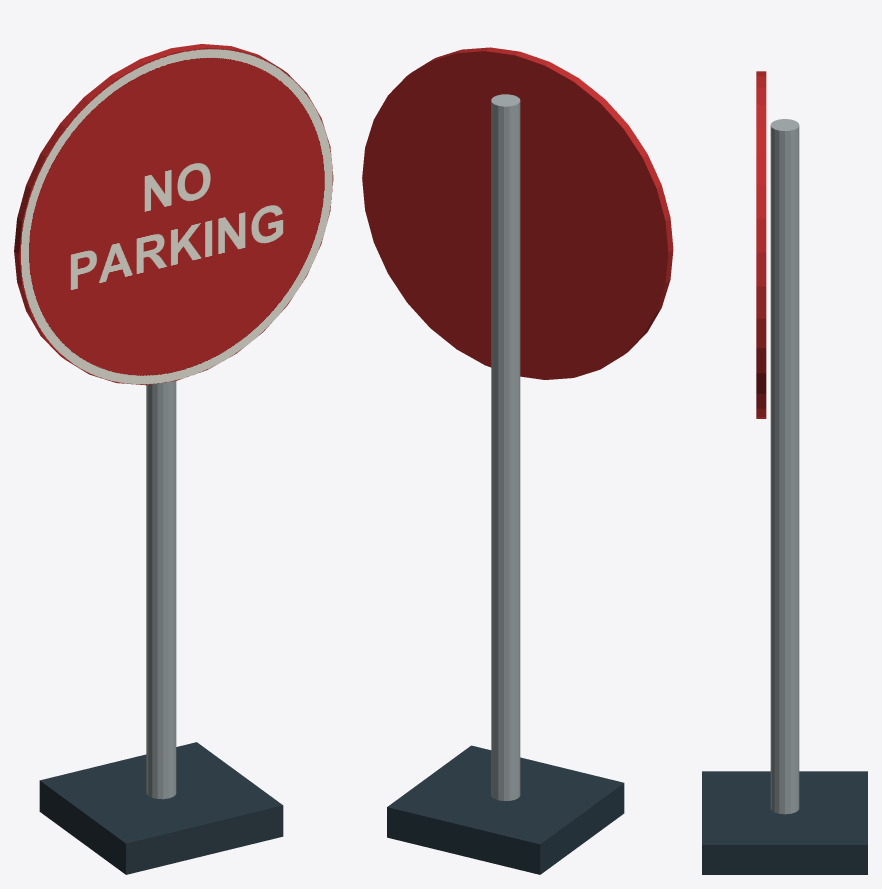
The model's file is scendance-plan-no-parking.glb.
The picture shows the model from 3 angles, left to right: view 1: azimuth 30°, elevation 25°; view 2: azimuth 150°, elevation 25°; view 3: azimuth 270°, elevation 25°; orthographic projection. The views are drawn at different scales.
Size of the model in its own units: 0.84 by 2 by 0.4.
4 materials, 1 textured.
